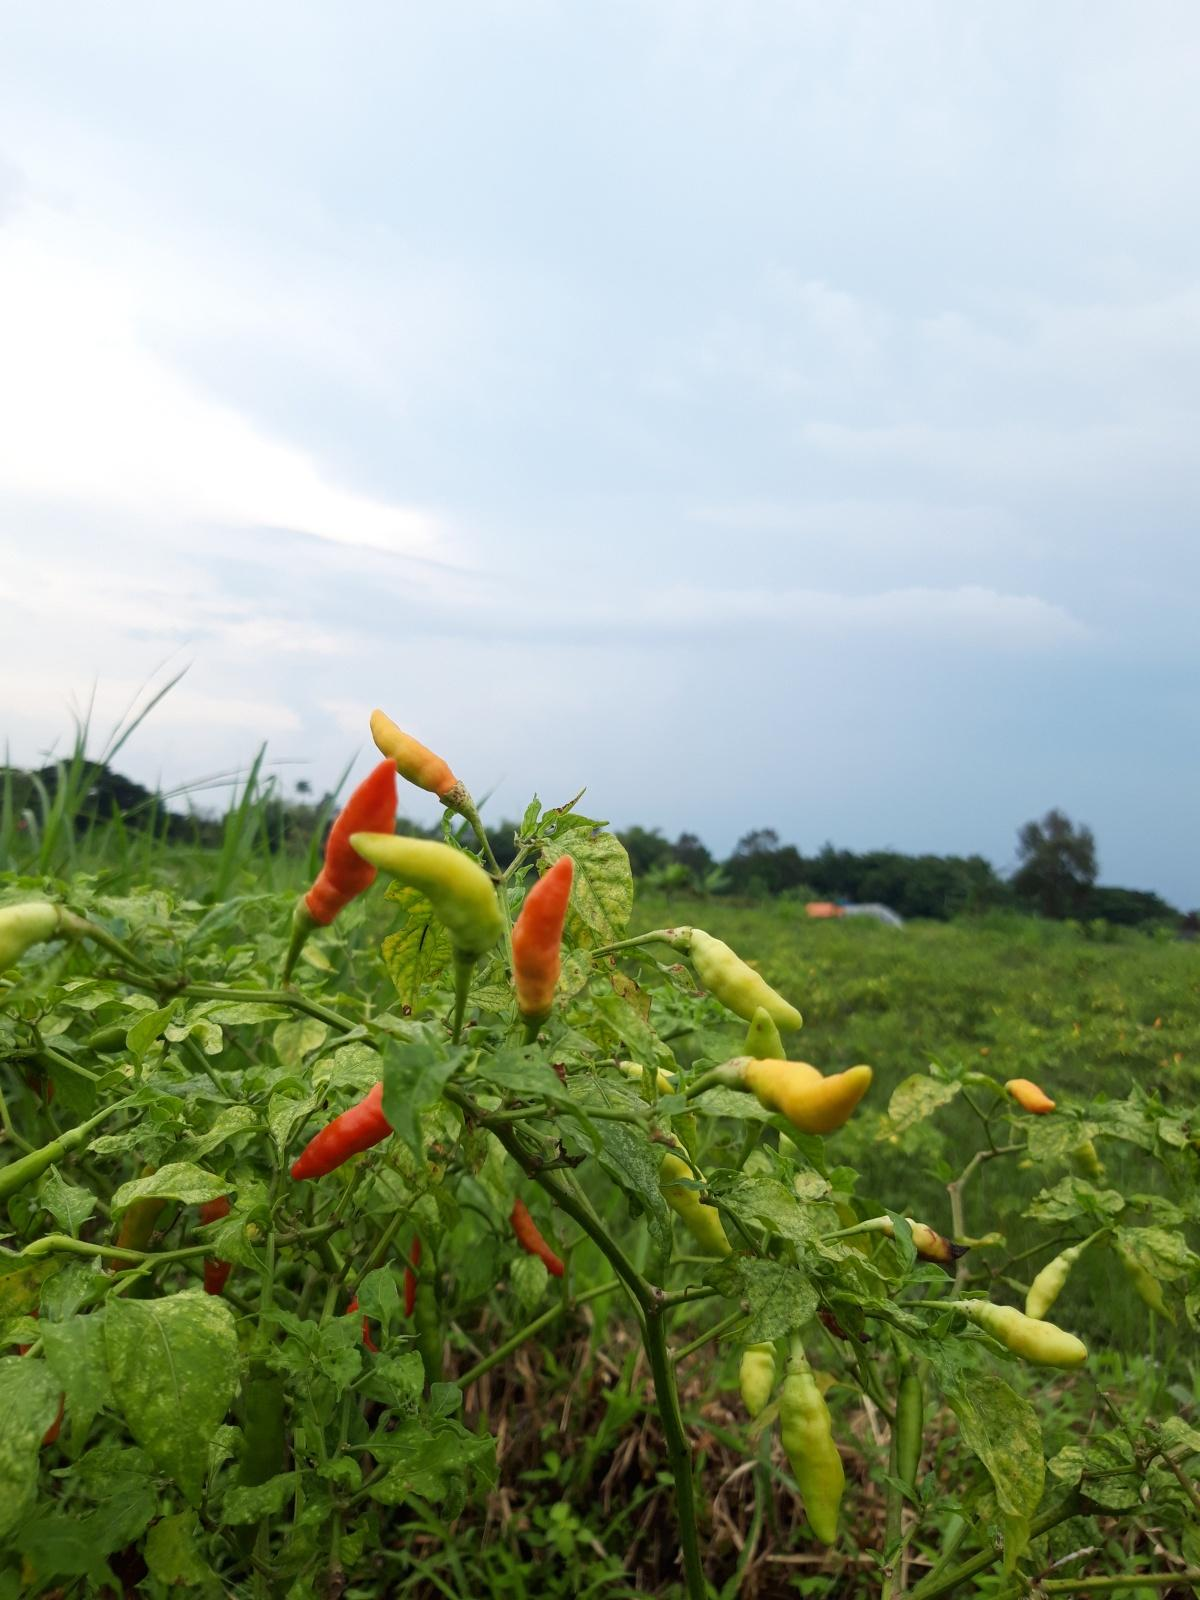antraknosa: (875, 1213, 971, 1262)
cabai_normal: (348, 834, 503, 955), (304, 756, 400, 929), (689, 929, 803, 1033), (290, 1080, 403, 1180), (780, 1369, 845, 1545), (511, 853, 574, 1013), (744, 1060, 872, 1135), (967, 1301, 1089, 1368), (371, 708, 458, 800), (895, 1364, 926, 1503), (509, 1199, 566, 1275), (0, 902, 58, 970), (198, 1193, 232, 1295), (1025, 1257, 1071, 1323), (740, 1340, 776, 1417), (745, 1004, 788, 1067), (1008, 1077, 1055, 1114)
